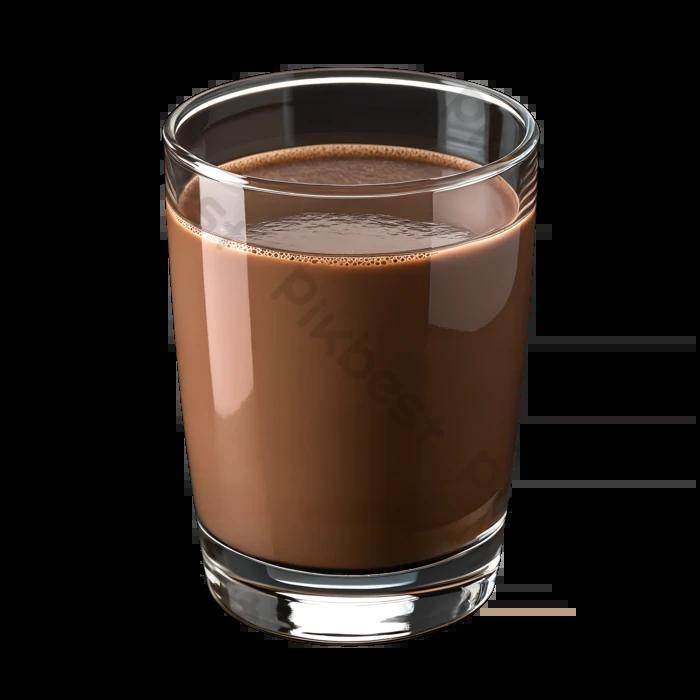produk_susu: (213, 110, 501, 597)
